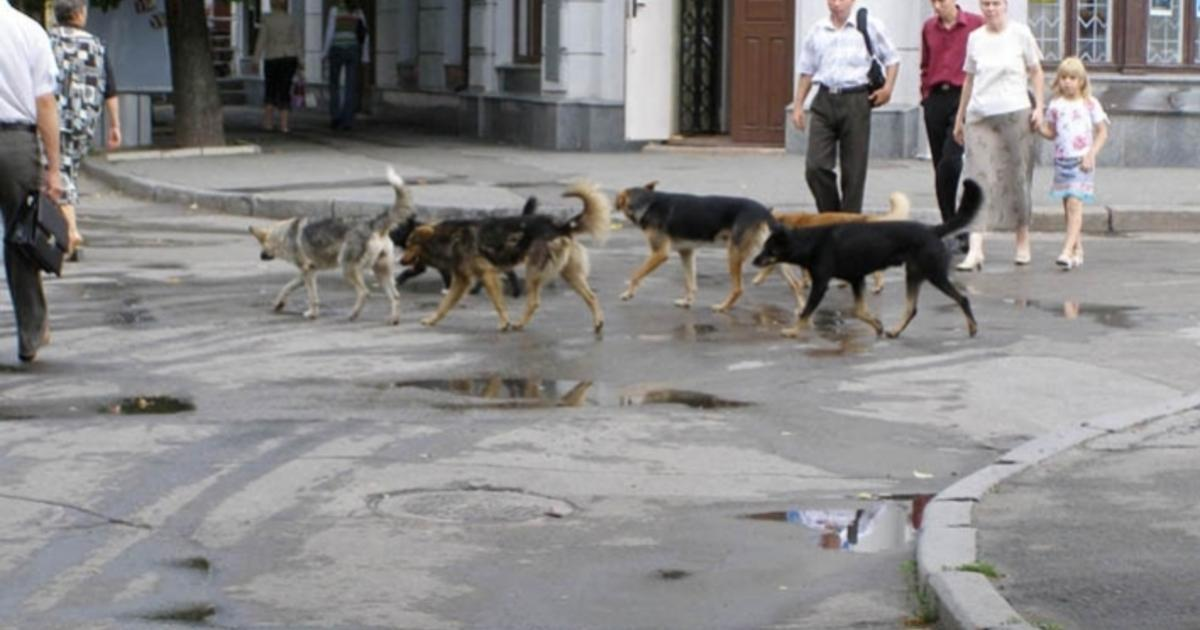normal_dogs: (758, 178, 993, 338), (394, 184, 615, 344), (242, 173, 419, 321), (612, 179, 772, 314)
